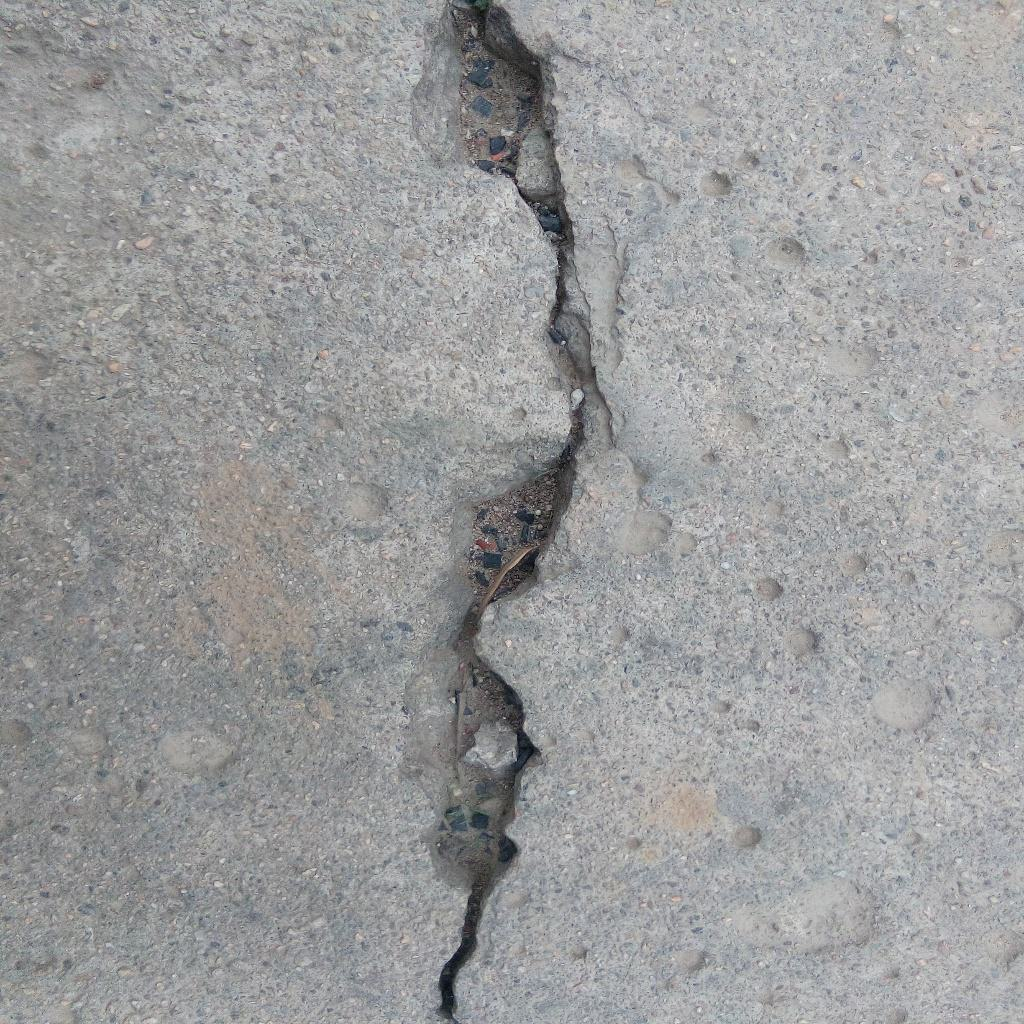Crack: (407, 1, 592, 1024)
